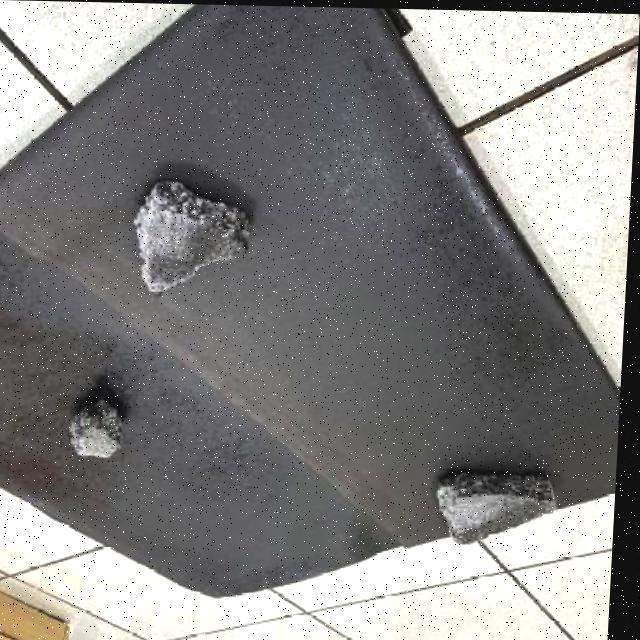Road Debris: (145, 221, 252, 285), (458, 499, 569, 543), (76, 420, 131, 452)
